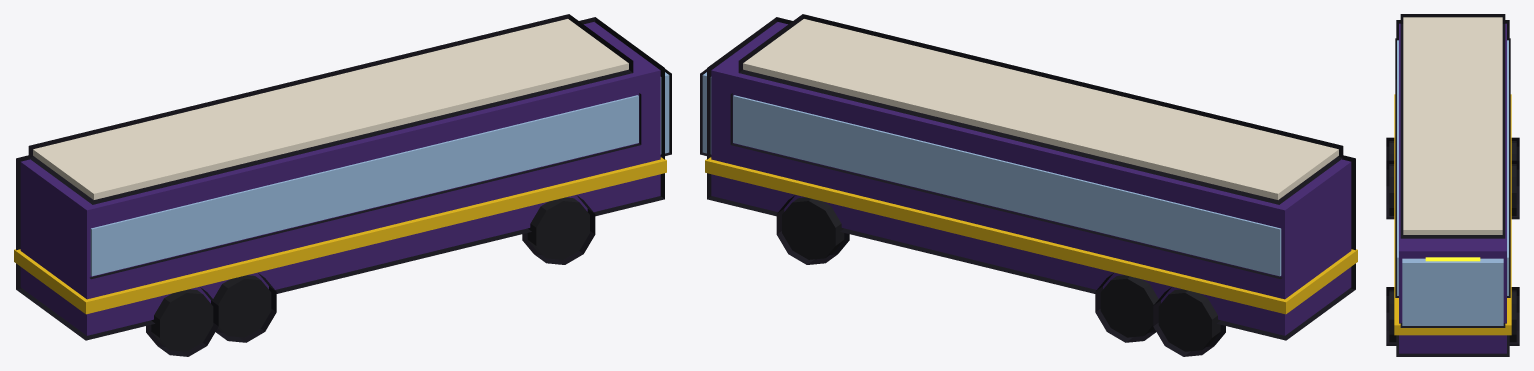
File: gl-coach.glb
3 renders of one model, left to right at view 1: azimuth 30°, elevation 25°; view 2: azimuth 150°, elevation 25°; view 3: azimuth 270°, elevation 25°, orthographic. The views are drawn at different scales.
Parts seen in each view (by area): view 1: Cube, Cube.004, Cube.001, Cube.002, Cylinder.004, Cylinder, Cylinder.002, Cube.003; view 2: Cube, Cube.004, Cube.001, Cube.002, Cylinder.005, Cylinder.001, Cylinder.003, Cube.003; view 3: Cube.004, Cube.003, Cube, Cube.001, Cube.002, Cylinder.004, Cylinder.005, Cylinder.002, Cylinder.003, Cube.005, Cylinder, Cylinder.001.
Part boxes in pixels (left/top/right/bottom): Cube: left=16, top=17, right=664, bottom=340; Cube.004: left=28, top=14, right=633, bottom=204; Cube.001: left=89, top=93, right=641, bottom=279; Cube.002: left=14, top=157, right=666, bottom=314; Cylinder.004: left=522, top=195, right=595, bottom=264; Cylinder: left=146, top=287, right=218, bottom=356; Cylinder.002: left=213, top=273, right=276, bottom=342; Cube.003: left=660, top=69, right=671, bottom=156; Cube: left=707, top=17, right=1355, bottom=340; Cube.004: left=738, top=14, right=1343, bottom=204; Cube.001: left=730, top=93, right=1282, bottom=279; Cube.002: left=705, top=157, right=1357, bottom=314; Cylinder.005: left=776, top=195, right=849, bottom=264; Cylinder.001: left=1153, top=287, right=1225, bottom=356; Cylinder.003: left=1095, top=273, right=1158, bottom=342; Cube.003: left=700, top=69, right=711, bottom=156; Cube.004: left=1400, top=14, right=1505, bottom=238; Cube.003: left=1400, top=258, right=1505, bottom=327; Cube: left=1396, top=20, right=1509, bottom=356; Cube.001: left=1395, top=38, right=1510, bottom=297; Cube.002: left=1394, top=94, right=1511, bottom=335; Cylinder.004: left=1386, top=287, right=1396, bottom=345; Cylinder.005: left=1509, top=287, right=1519, bottom=345; Cylinder.002: left=1386, top=160, right=1394, bottom=219; Cylinder.003: left=1511, top=160, right=1519, bottom=219; Cube.005: left=1425, top=257, right=1480, bottom=261; Cylinder: left=1386, top=137, right=1394, bottom=160; Cylinder.001: left=1511, top=137, right=1519, bottom=160.
Bounding box in the file's own units: 6.11 × 1.77 × 1.47.
